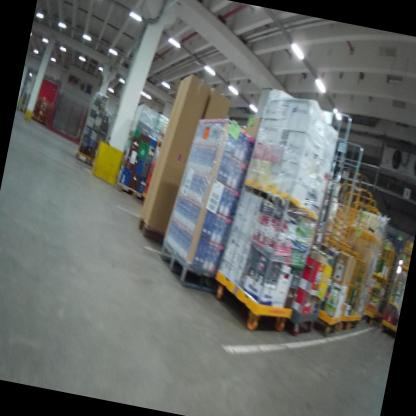pallet: (110, 179, 148, 207), (133, 217, 169, 243)
